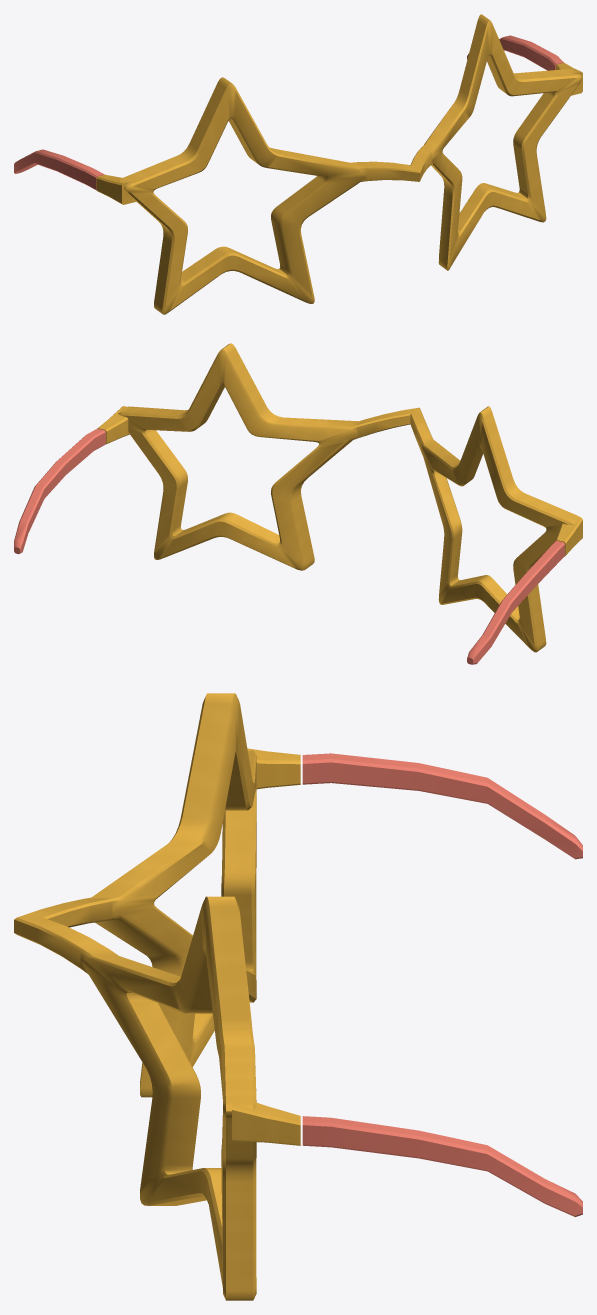
File: KD_StarGlasses_Everyday.fbx
3 views of the same model, one above another, from view 1: azimuth 30°, elevation 25°; view 2: azimuth 150°, elevation 25°; view 3: azimuth 270°, elevation 25° (orthographic). The views are drawn at different scales.
Visible parts, largest first — view 1: KD_StarGlasses_Everyday; view 2: KD_StarGlasses_Everyday; view 3: KD_StarGlasses_Everyday.
Boxes of the visible parts, x1,y1,x2,y2 form: KD_StarGlasses_Everyday: (14,14,582,314); KD_StarGlasses_Everyday: (14,343,582,664); KD_StarGlasses_Everyday: (14,693,582,1300).
Bounding box in the file's own units: 0.2328 × 0.103 × 0.1492.
Materials: 1 (1 with a texture image).
